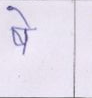e_matra: (7, 6, 34, 27)
